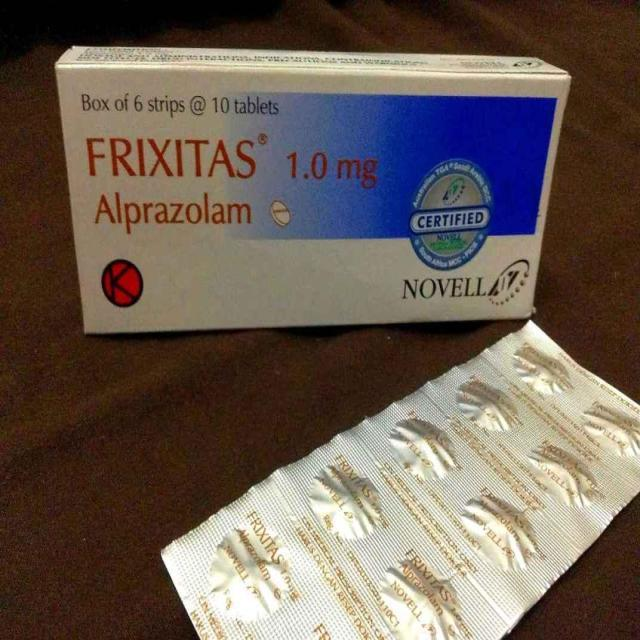drug-name: (80, 134, 258, 182)
